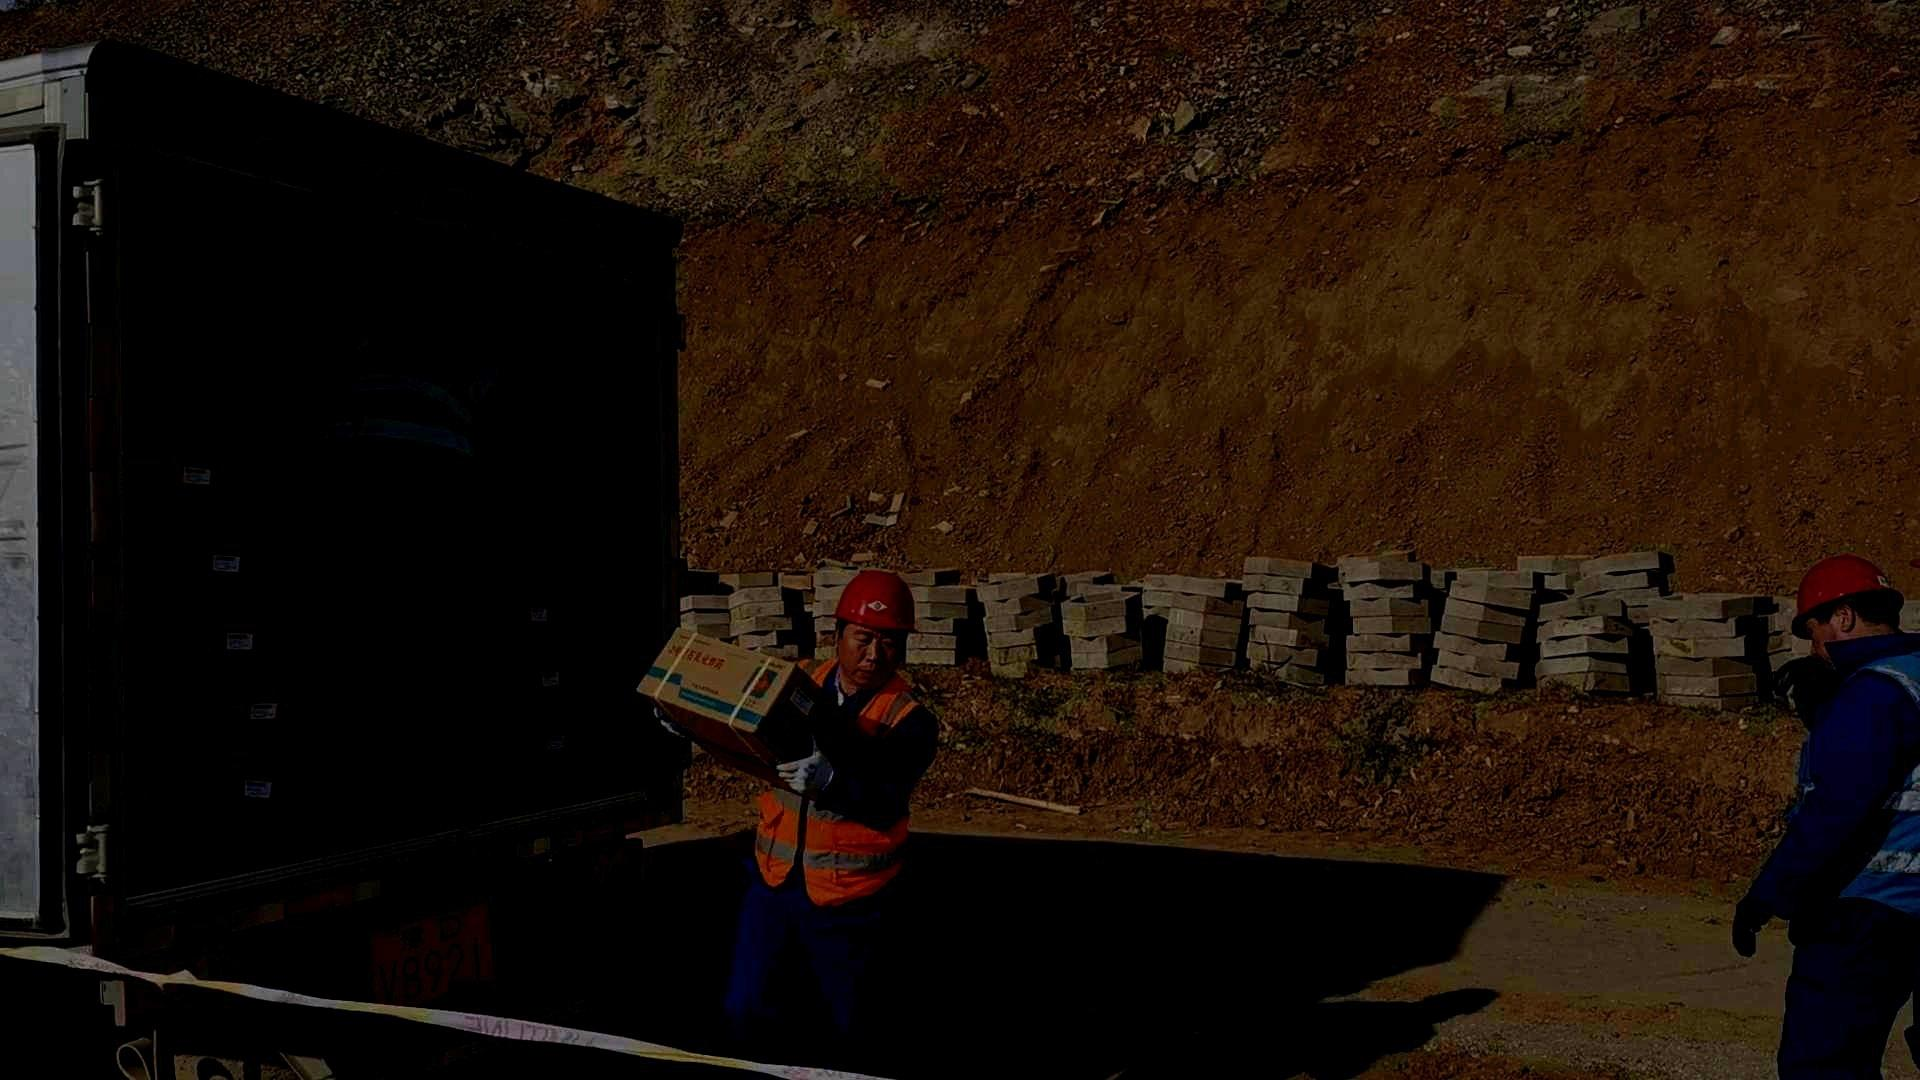helmet: (1789, 554, 1905, 676), (832, 568, 920, 684)
